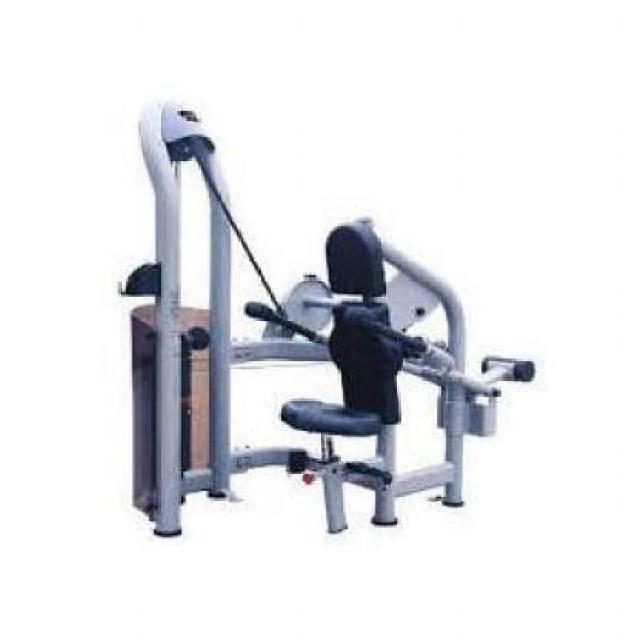seated dip machine: (118, 100, 534, 542)
